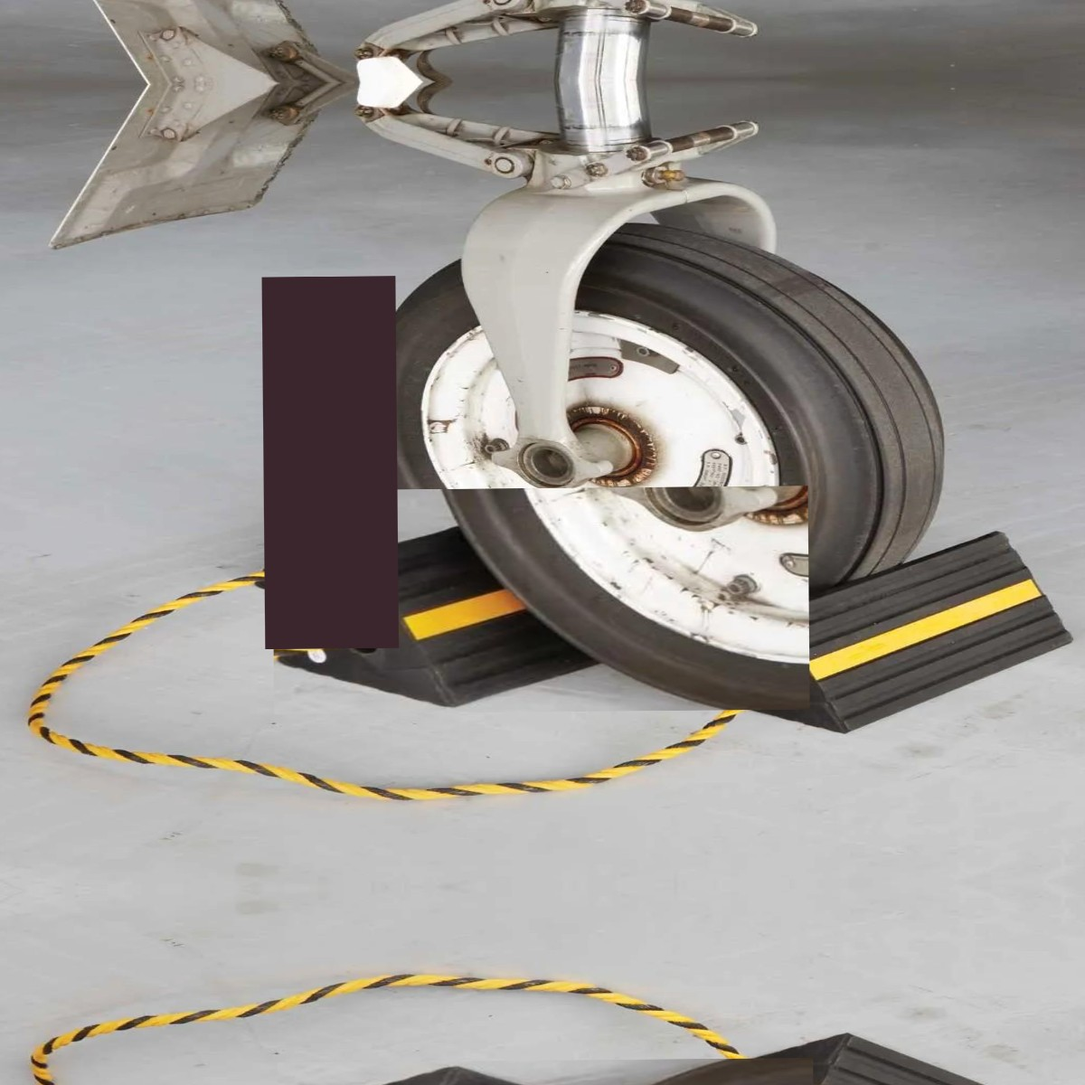chock: (272, 486, 810, 714), (682, 529, 1076, 737), (251, 459, 637, 624)
wheel: (356, 223, 936, 637)
